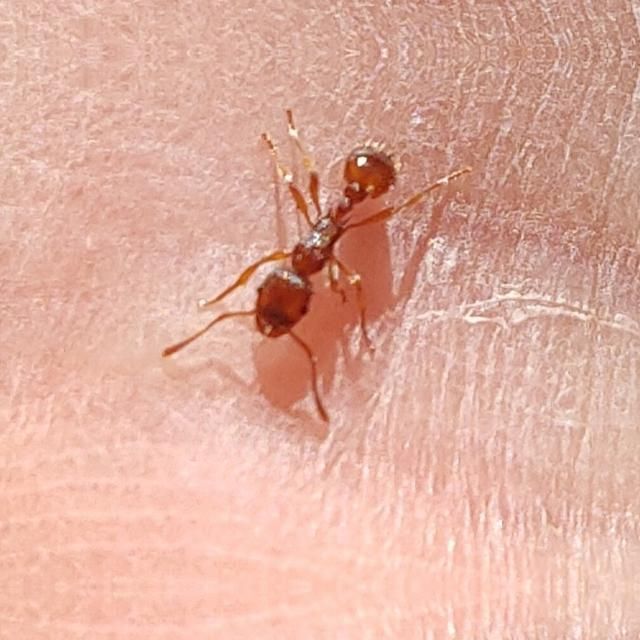Myrmica: (184, 122, 436, 394)
